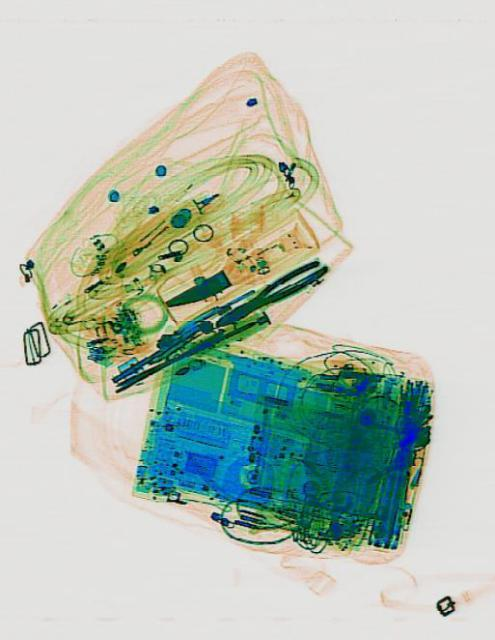Pliers: (210, 252, 329, 332)
